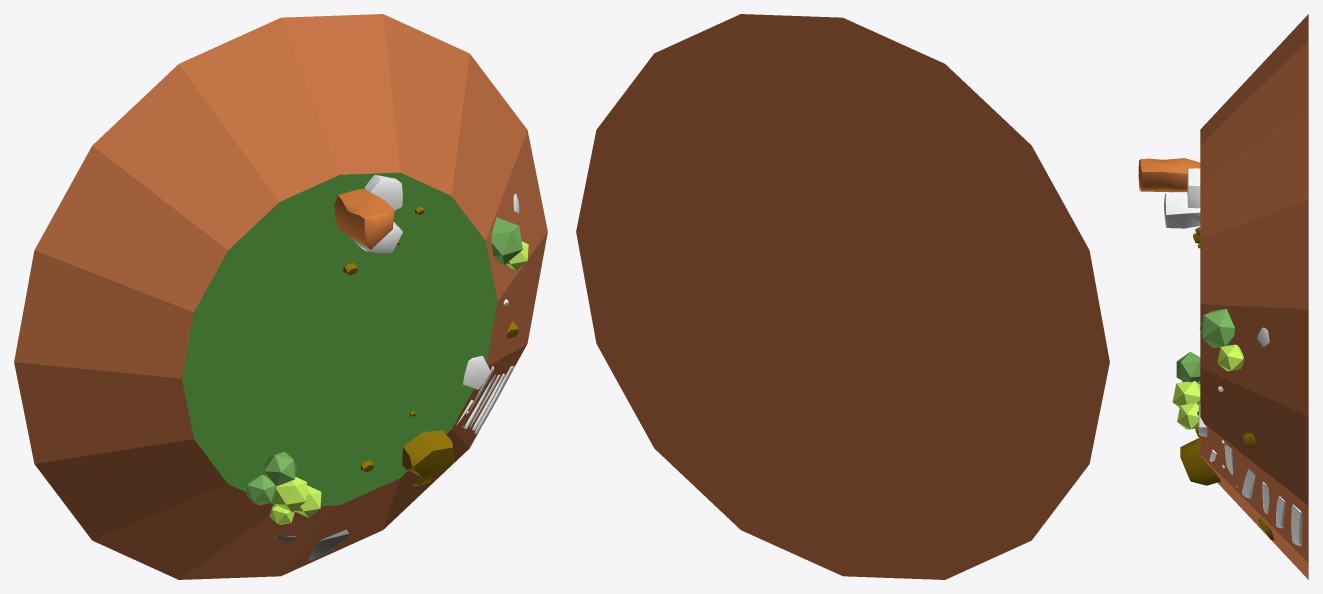
File: project landscape.glb
3 views of the same model, side by side, from view 1: azimuth 30°, elevation 25°; view 2: azimuth 150°, elevation 25°; view 3: azimuth 270°, elevation 25° (orthographic). The views are drawn at different scales.
Visible parts, largest first — view 1: Stone_5_Low.001; view 2: Stone_5_Low.001; view 3: Stone_5_Low.001.
Boxes of the visible parts, bbox=[...] form: Stone_5_Low.001: bbox=[14, 14, 547, 579]; Stone_5_Low.001: bbox=[576, 14, 1109, 579]; Stone_5_Low.001: bbox=[1138, 14, 1308, 579].
Bounding box in the file's own units: 5 × 5.01 × 1.5.
